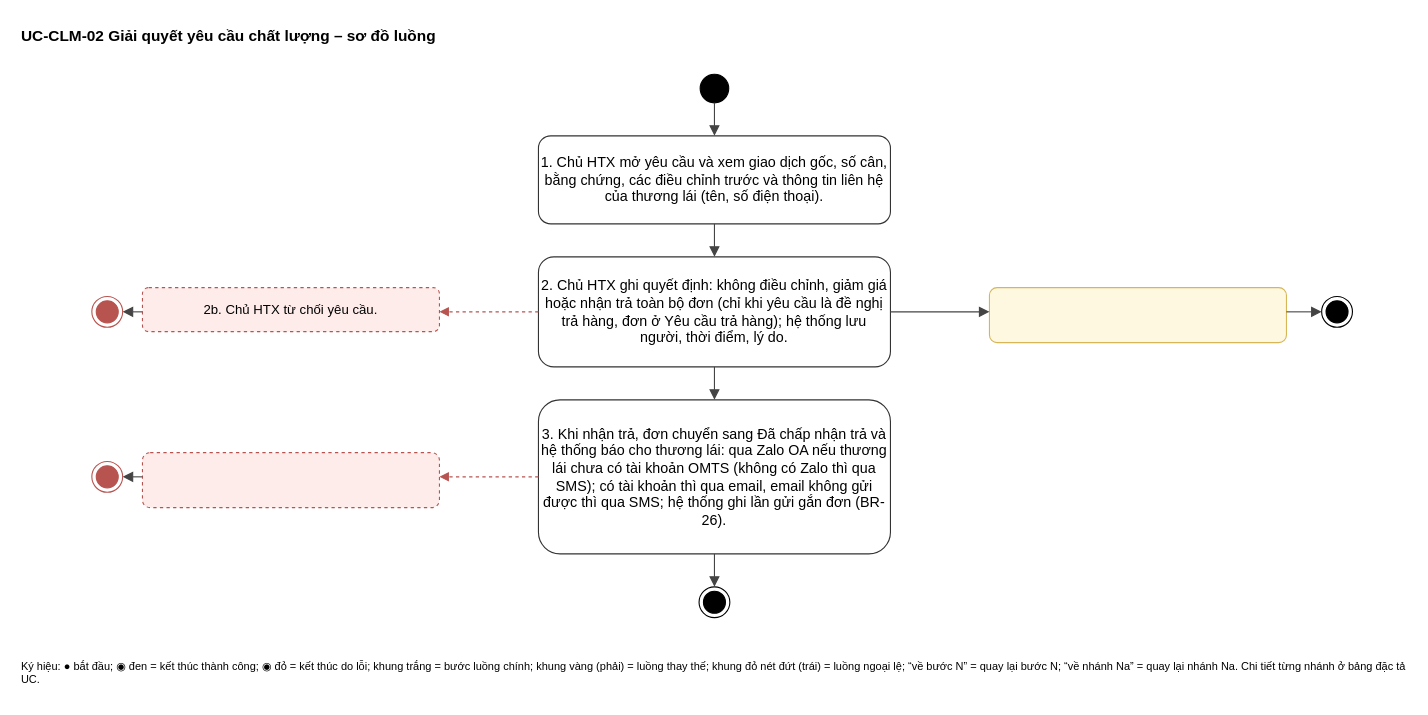
Some shapes in this 1428 by 715 pixel diagram are drawn without their labels. The centre of each missing label's shape, as x and y in pixels:
"2a. Quyết định giảm giá (không nhận trả hàng)." goes at pixel 1137 315.
"3a. Chủ HTX không liên lạc được thương lái hoặc hàng trả không về." goes at pixel 290 480.
